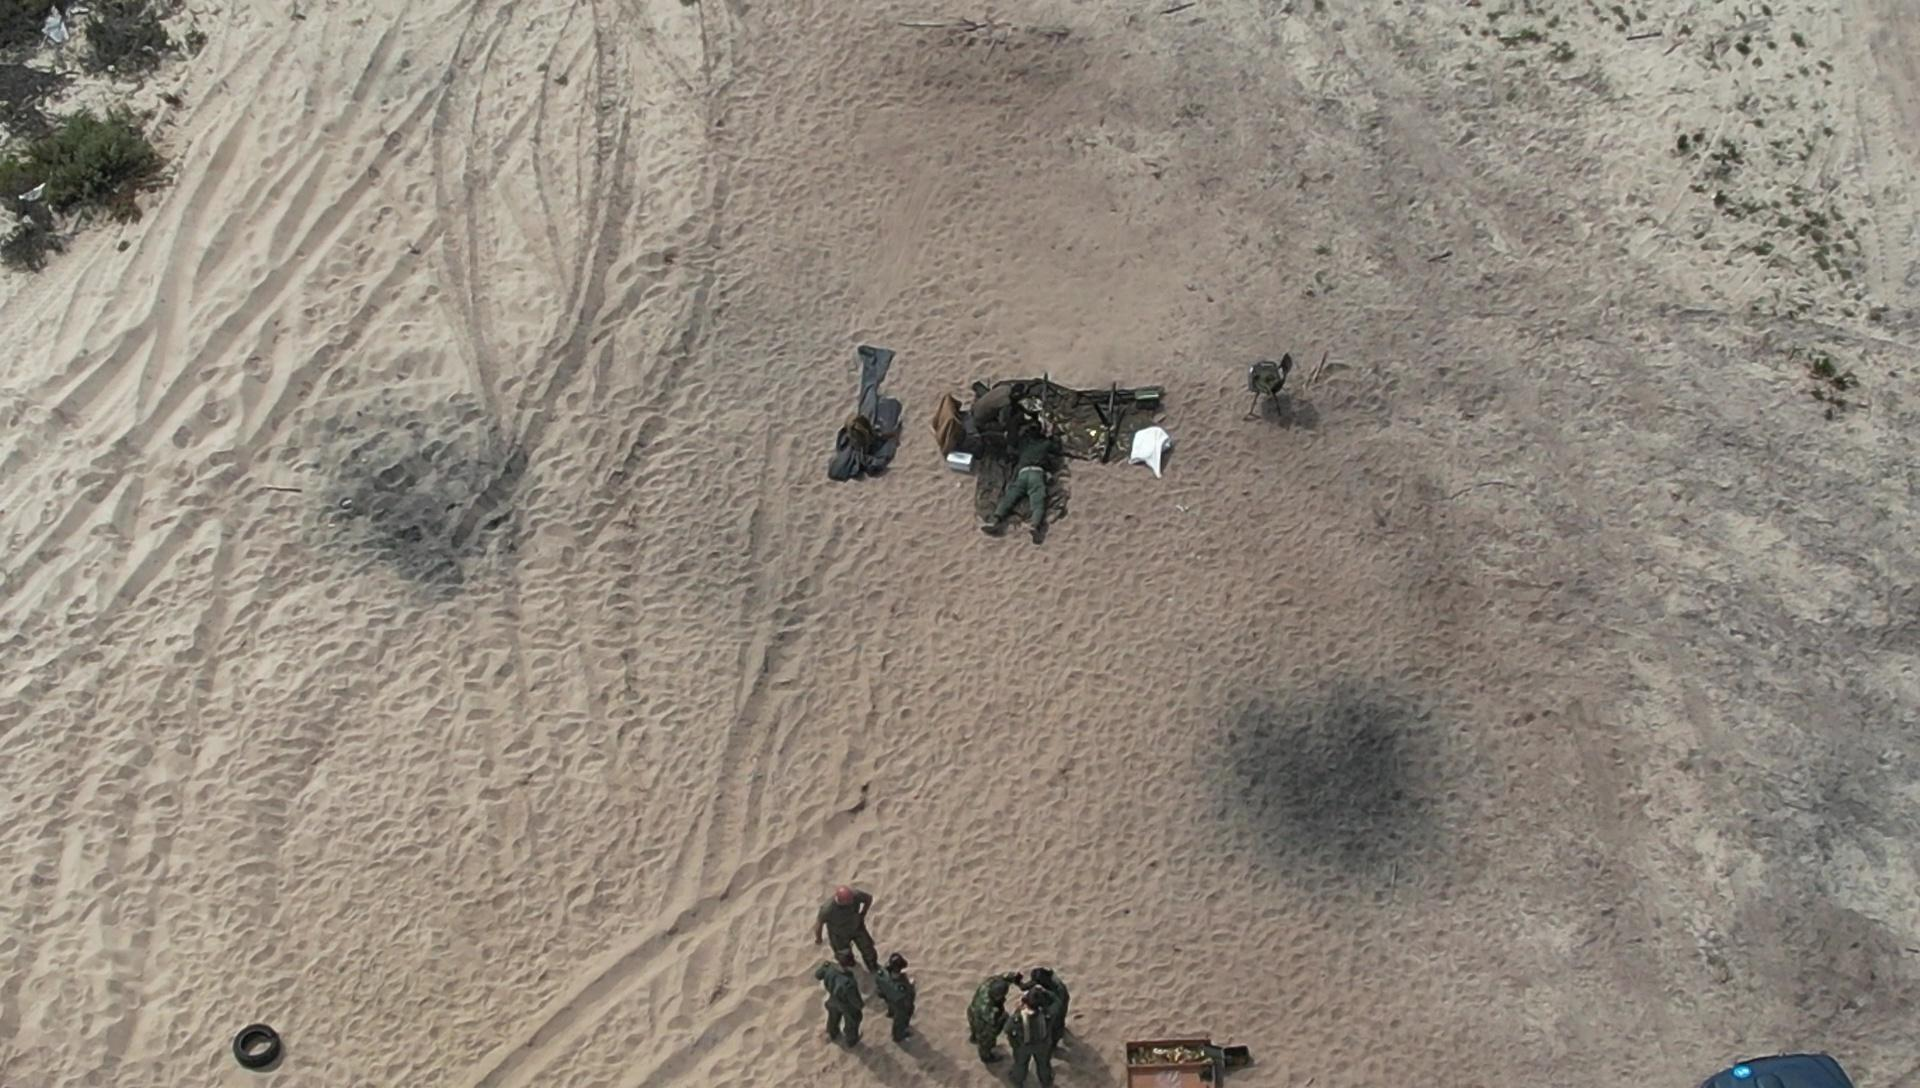Soldier: (976, 411, 1068, 555), (802, 947, 882, 1054), (799, 884, 893, 963), (868, 932, 918, 1059), (969, 959, 1027, 1064), (1027, 961, 1087, 1041), (1017, 994, 1067, 1088), (965, 371, 1039, 434)
